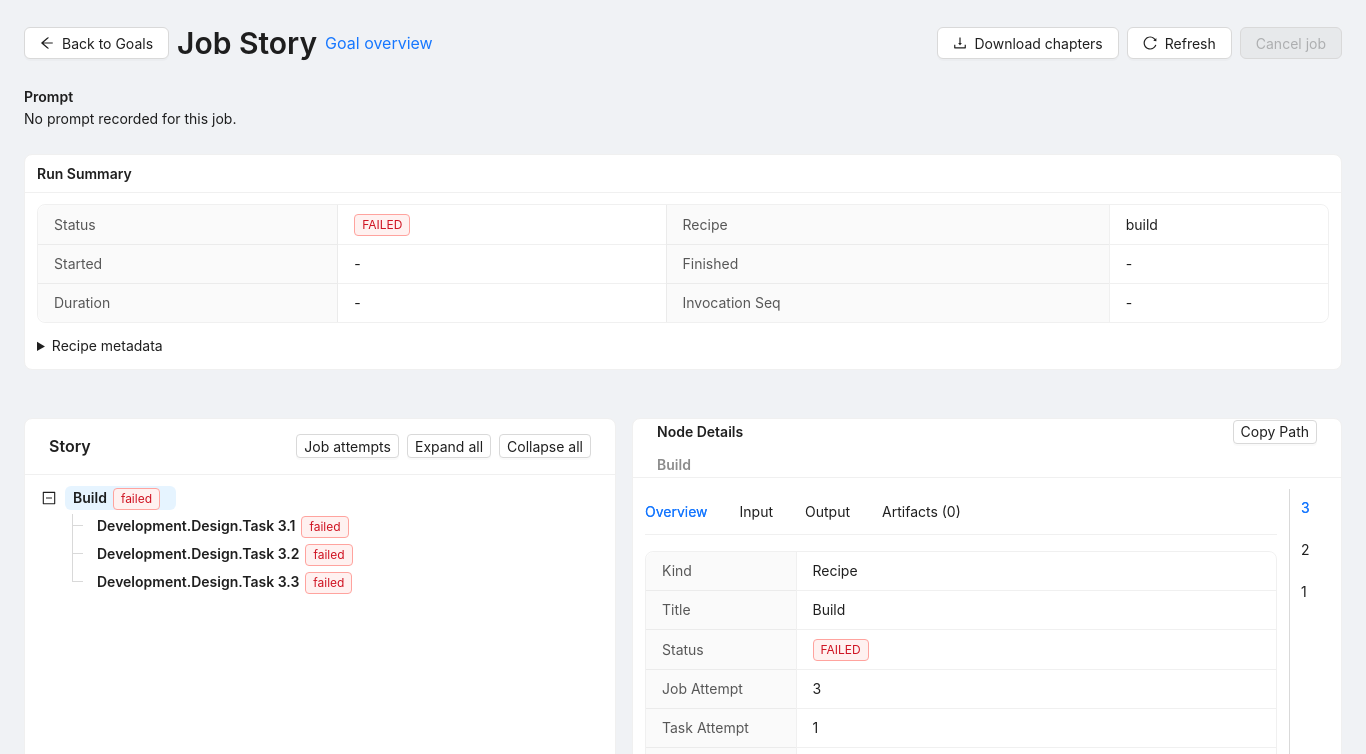
Test case: job story history › uses descending job attempt tabs and preserves inspected failures across refresh
Check: the text "Development.Design.Task 3.2" is shown, box x1=97 y1=545 x2=300 y2=562
Check: the text "Task 1" is not shown
Click the tab named "Job attempt 1": [1304, 592] box x1=1301 y1=581 x2=1307 y2=603
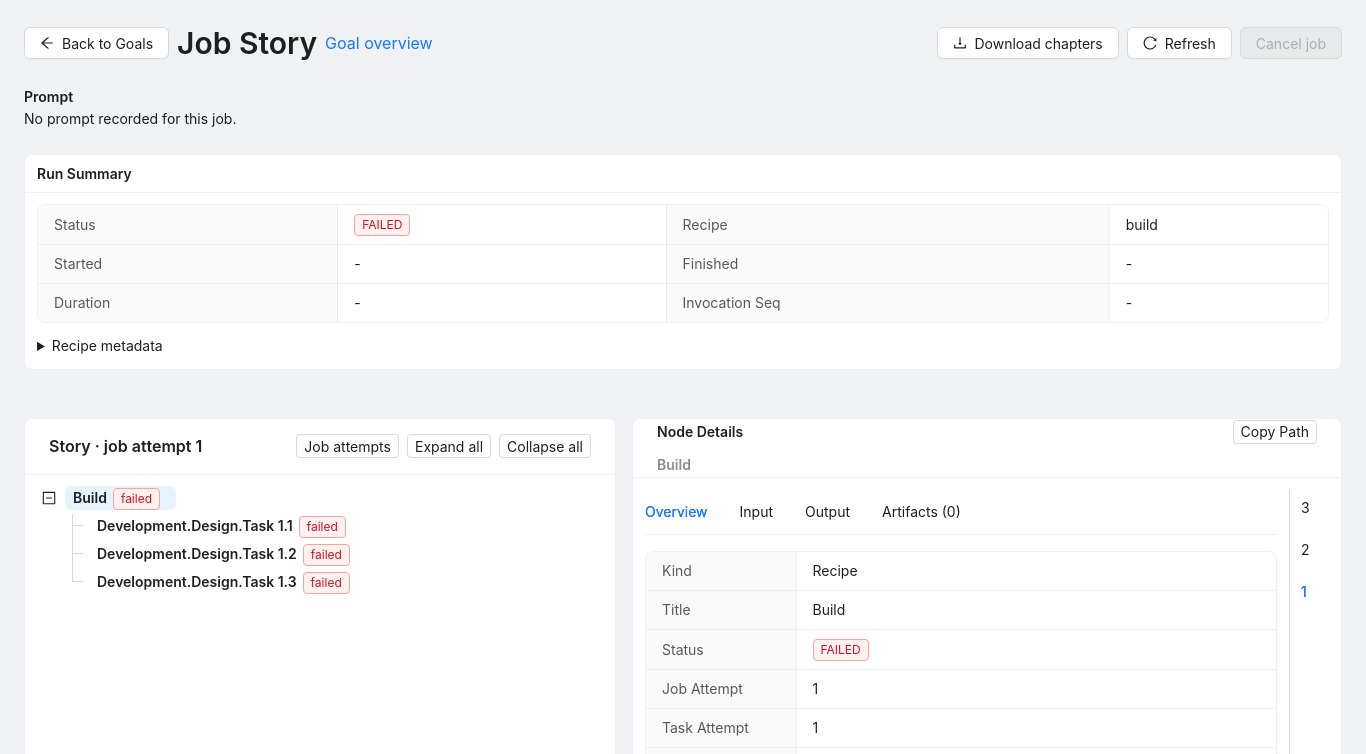
Check: the tab named "Job attempt 1" is selected, box x1=1301 y1=581 x2=1307 y2=603
Click the text "Development.Design.Task 1.2": [197, 554] box x1=97 y1=545 x2=297 y2=562
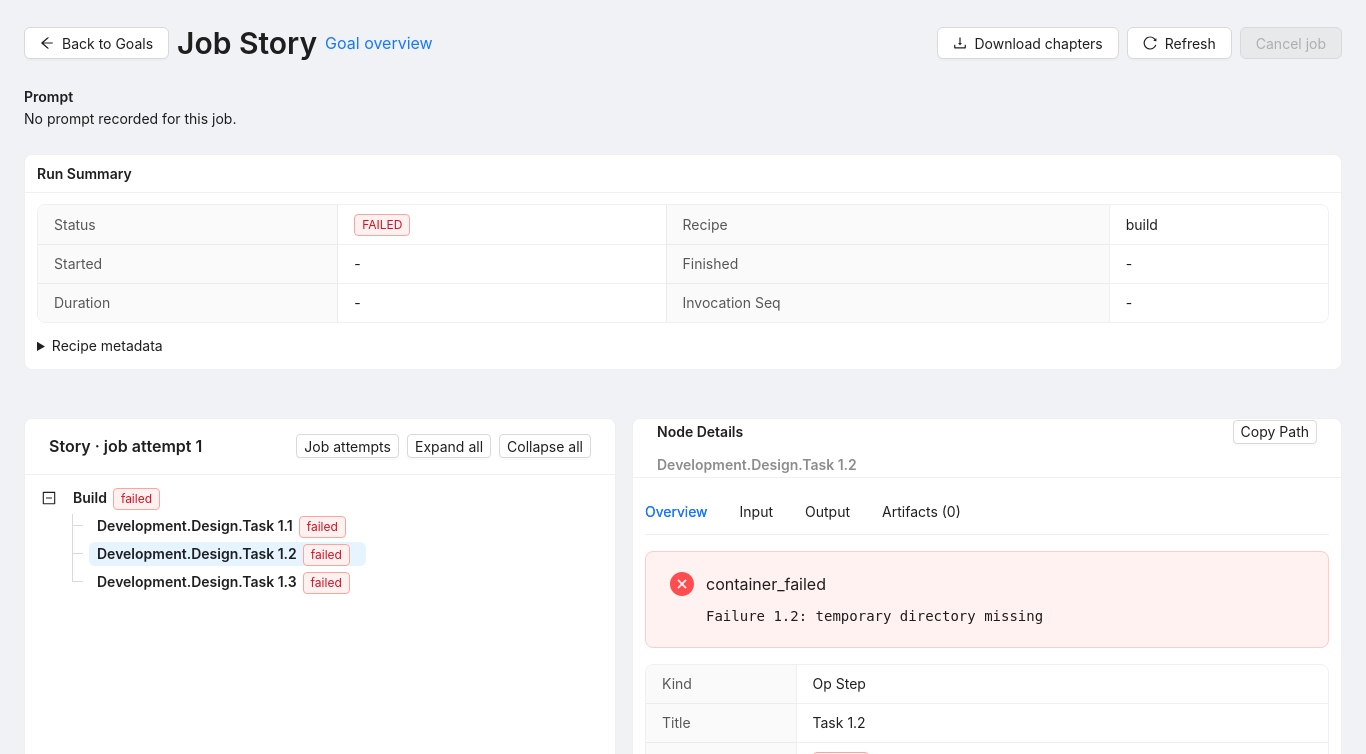
Check: the text "Failure 1.2: temporary directory missing" is shown, box x1=706 y1=608 x2=1043 y2=624
Click the button "Refresh": [1179, 43] box x1=1127 y1=27 x2=1232 y2=59
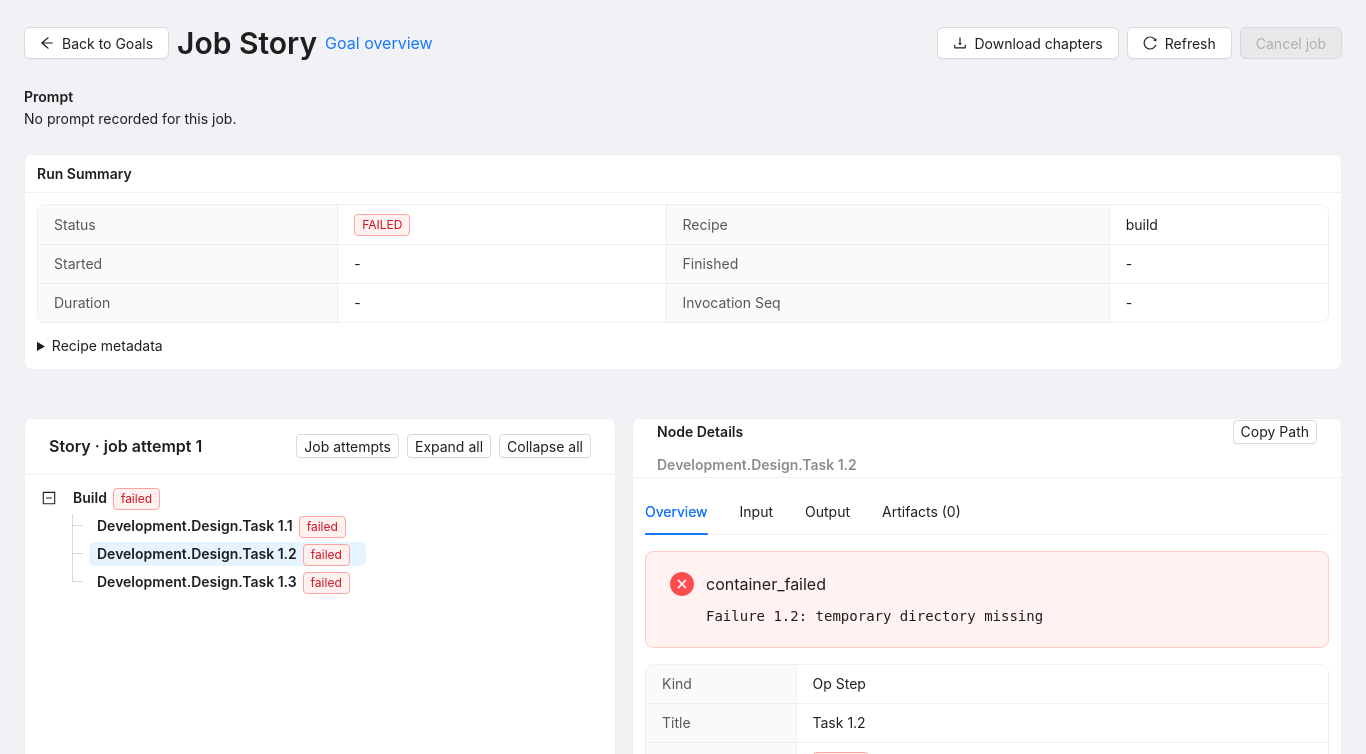
Check: the text "Failure 1.2: temporary directory missing" is shown, box x1=706 y1=608 x2=1043 y2=624
Click the button "Job attempts": [348, 446] box x1=296 y1=434 x2=399 y2=458
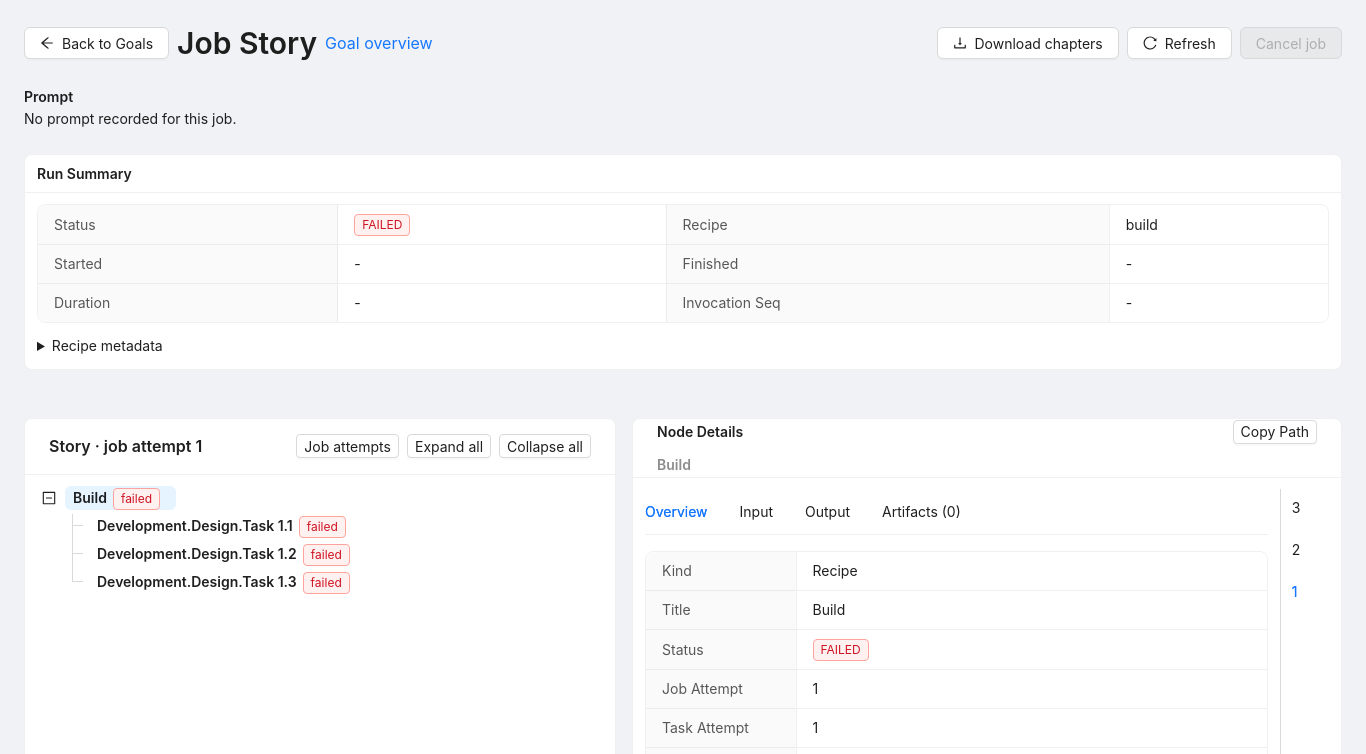
Click the tab named "Job attempt 3": [1296, 508] box x1=1292 y1=497 x2=1300 y2=519
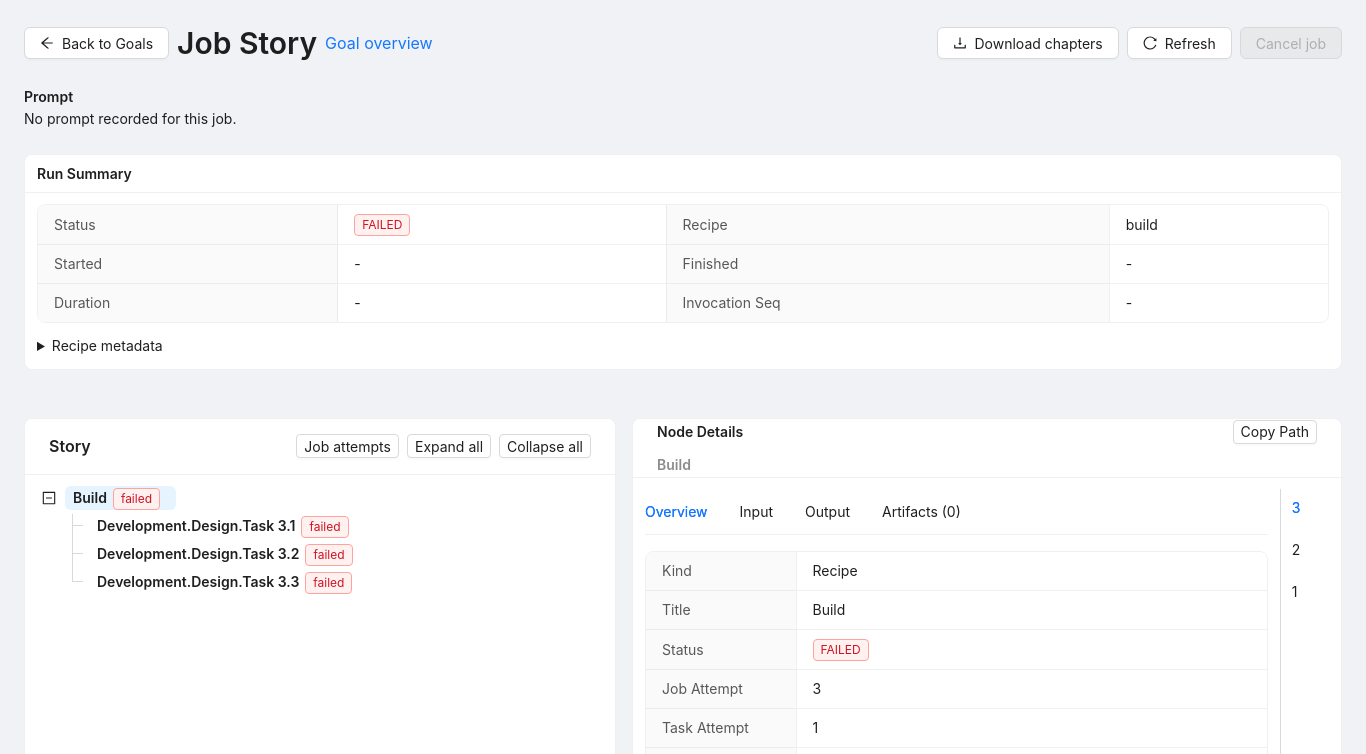
Click the text "Development.Design.Task 3.2": [198, 554] box x1=97 y1=545 x2=300 y2=562
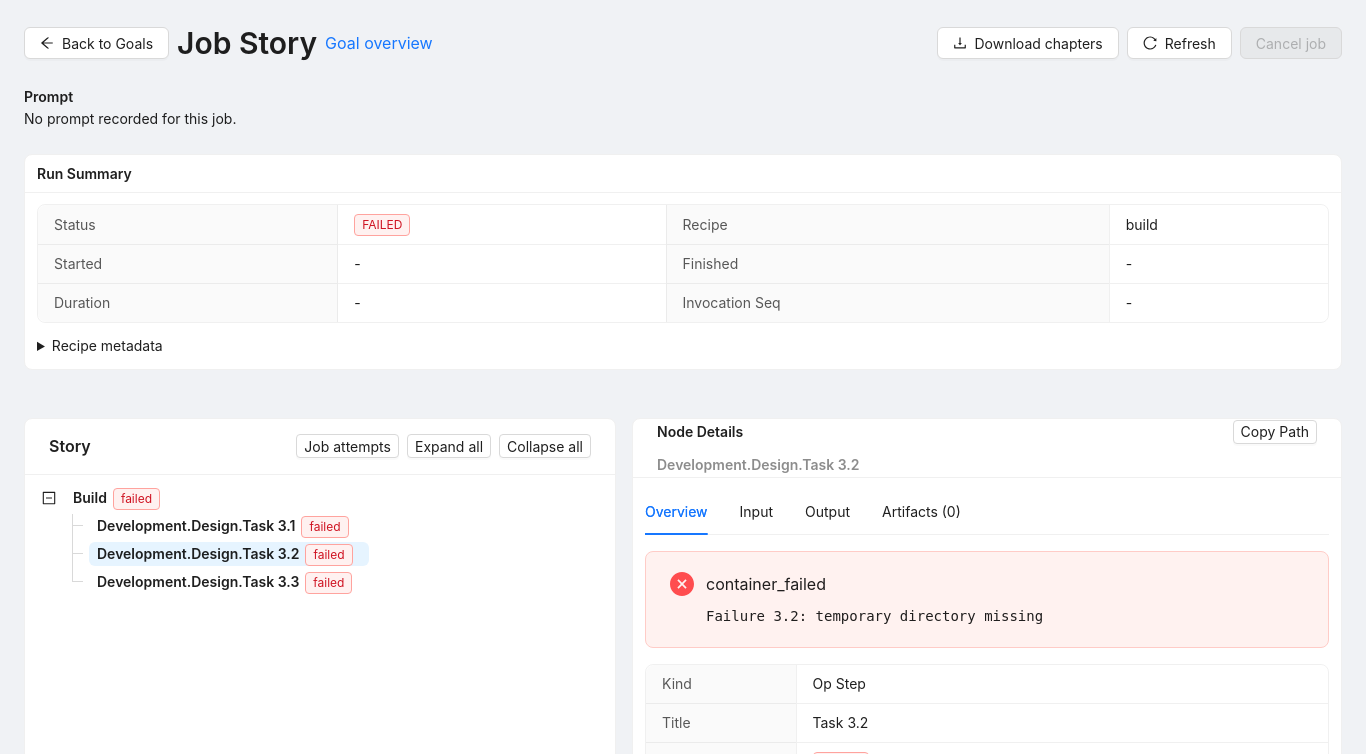
Check: the text "Failure 1.2: temporary directory missing" is not shown
Check: the text "Failure 3.2: temporary directory missing" is shown, box x1=706 y1=608 x2=1043 y2=624
